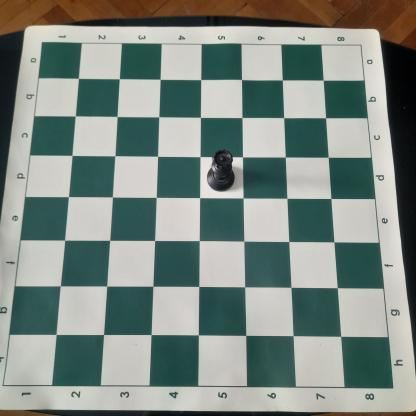black-queen: (206, 148, 236, 192)
